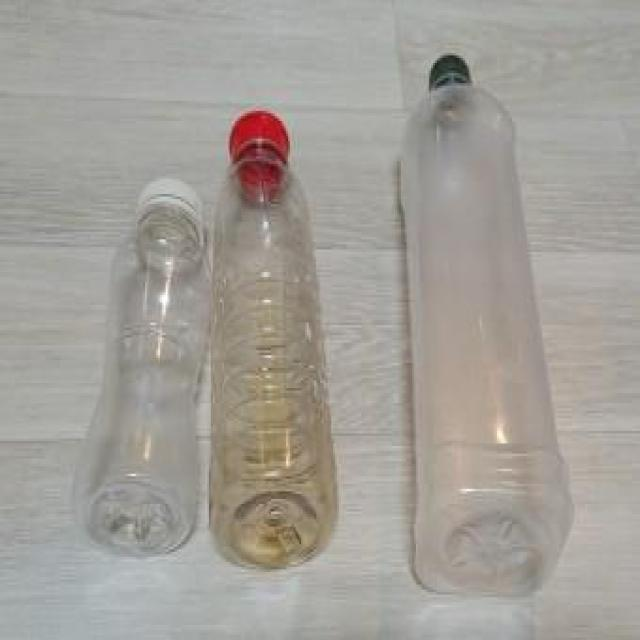bottle: (401, 50, 550, 595), (213, 107, 343, 571), (80, 179, 212, 559)
